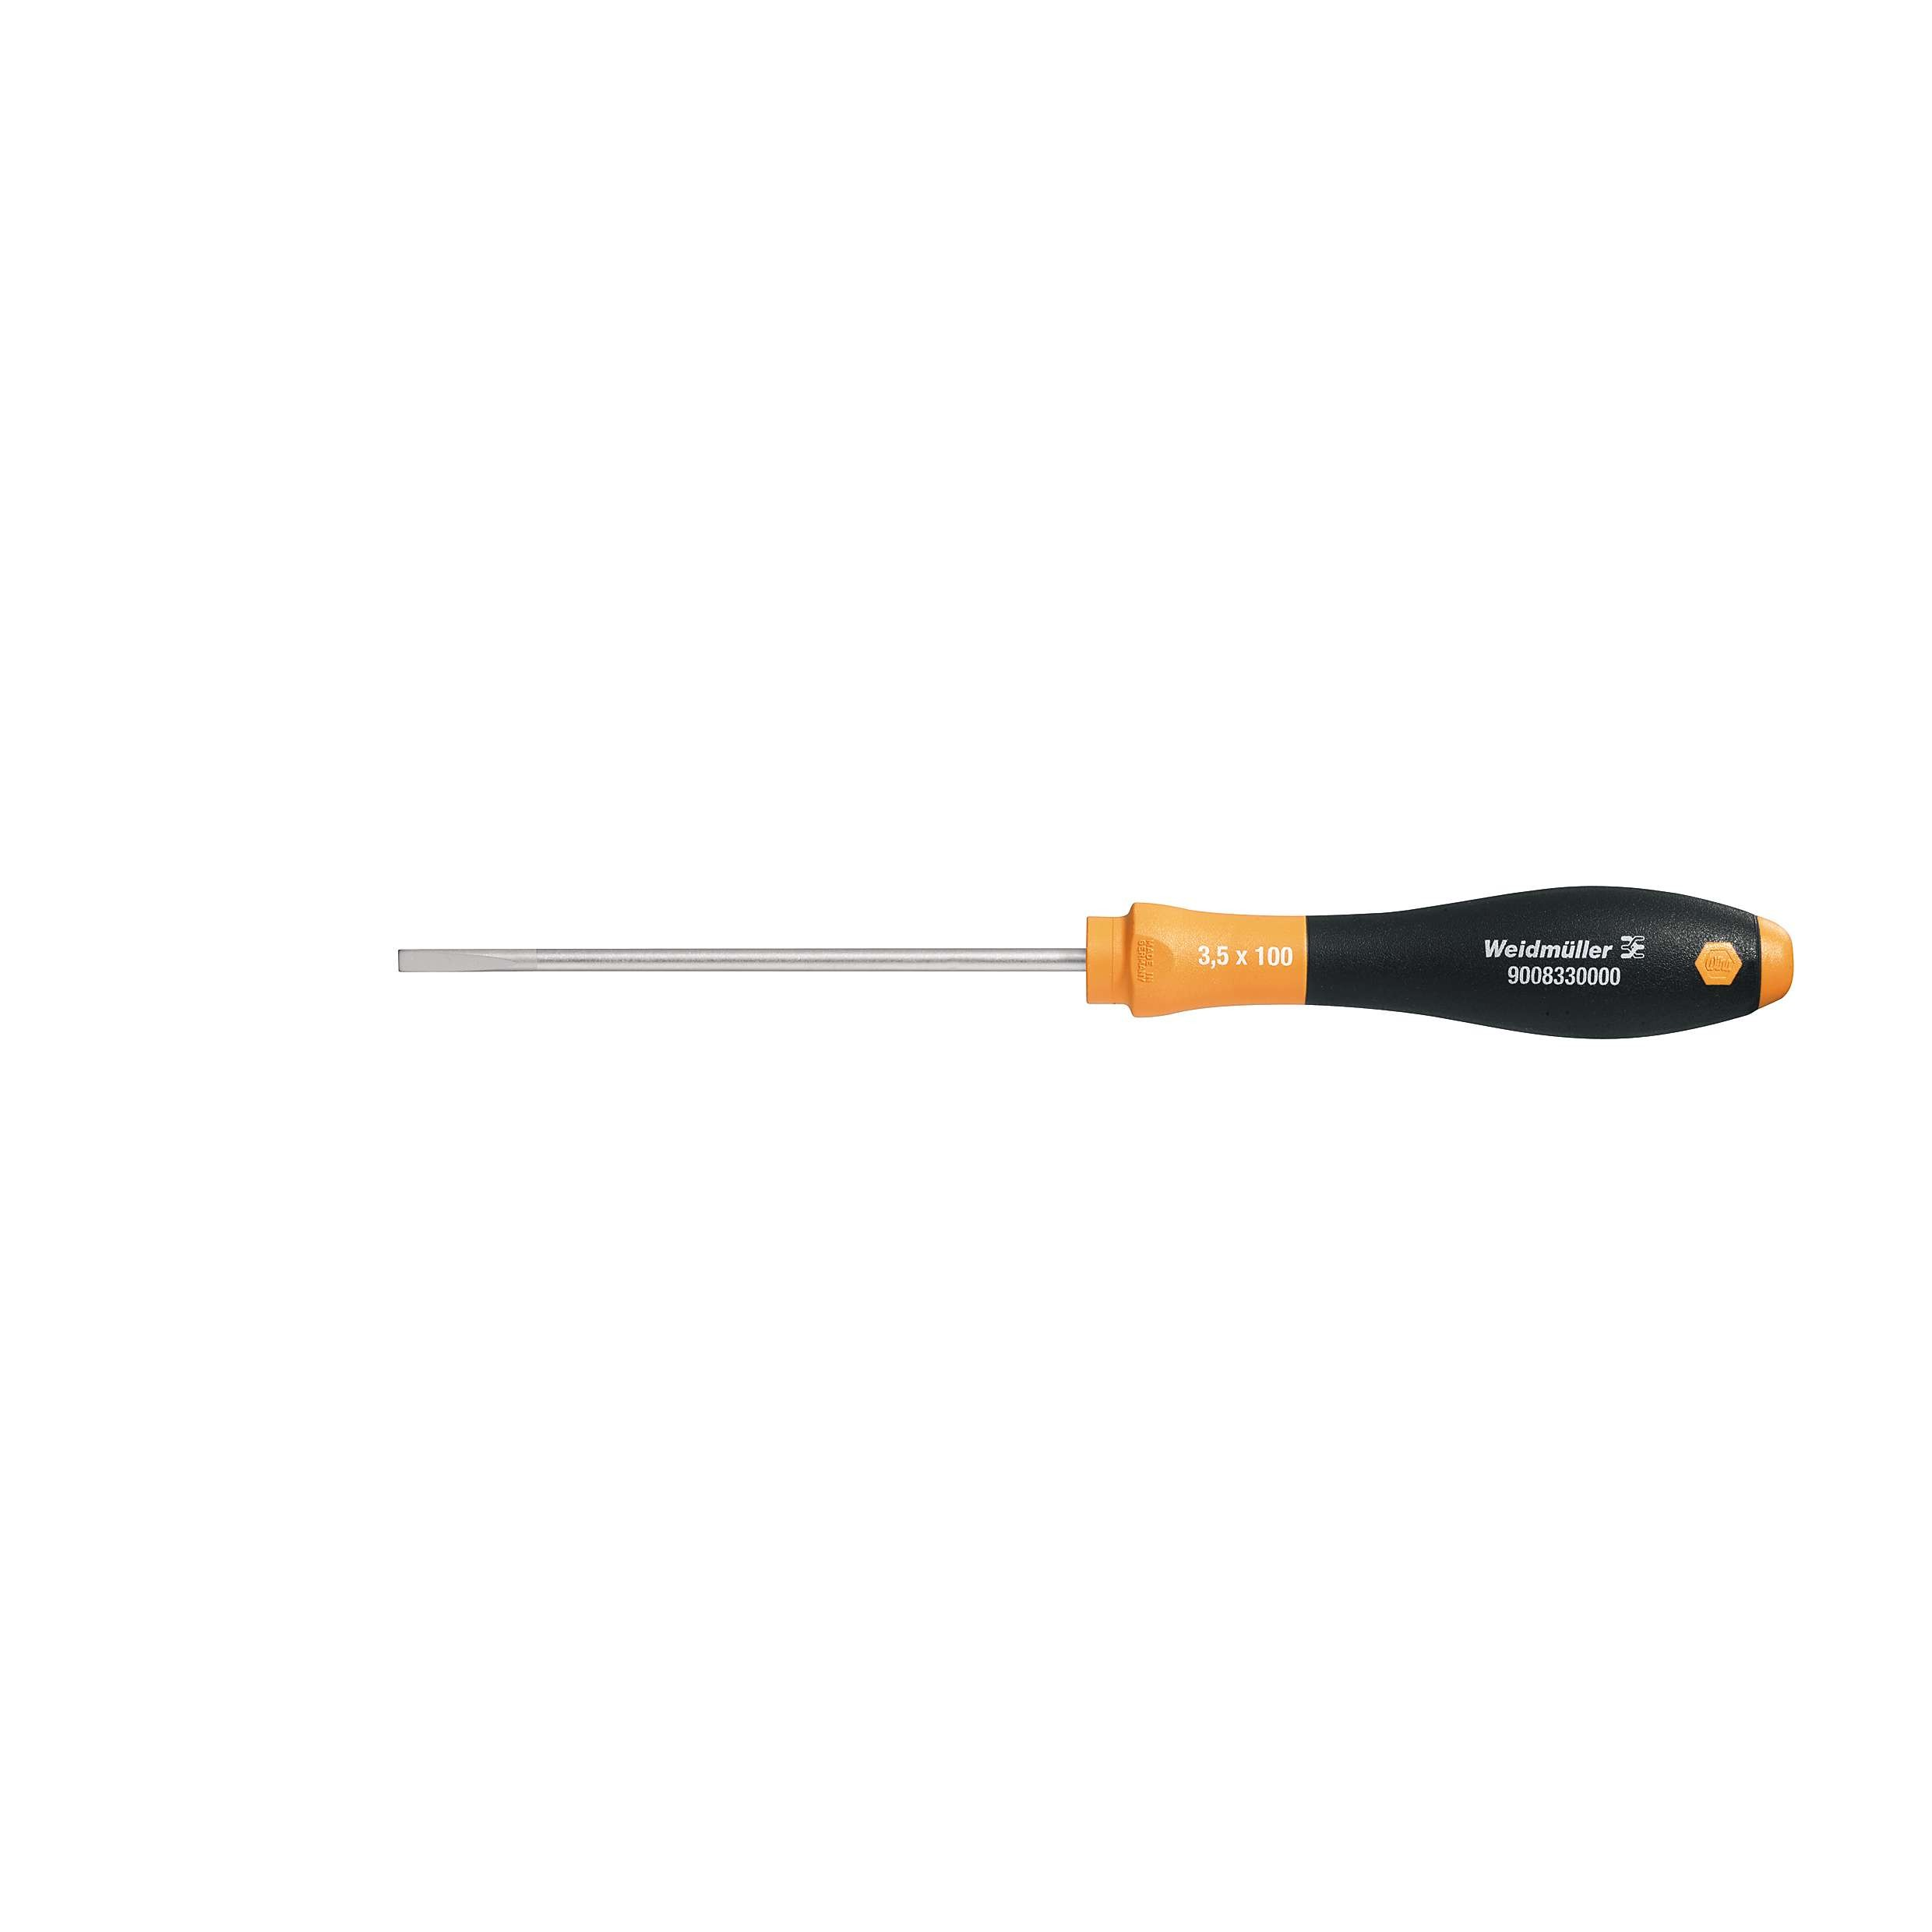screwdriver: (350, 869, 1812, 1056)
